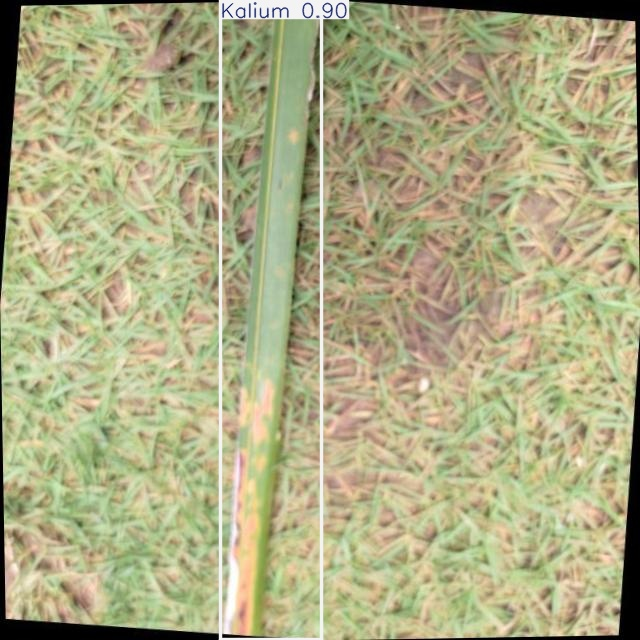Kalium: (221, 0, 321, 639)
